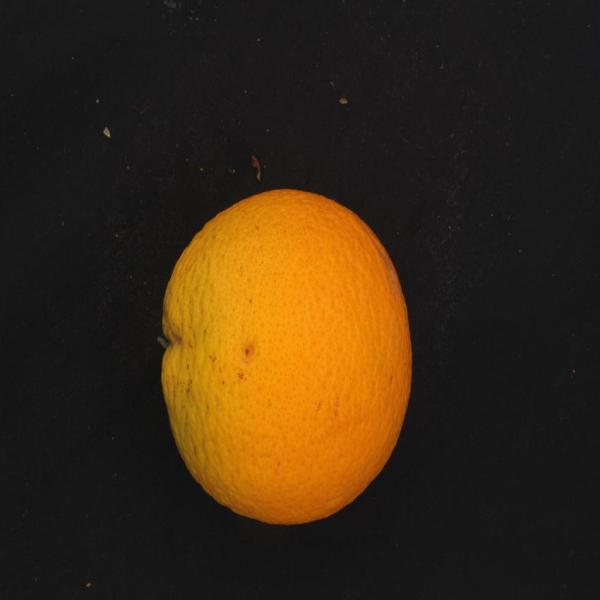Sana: (147, 161, 422, 539)
